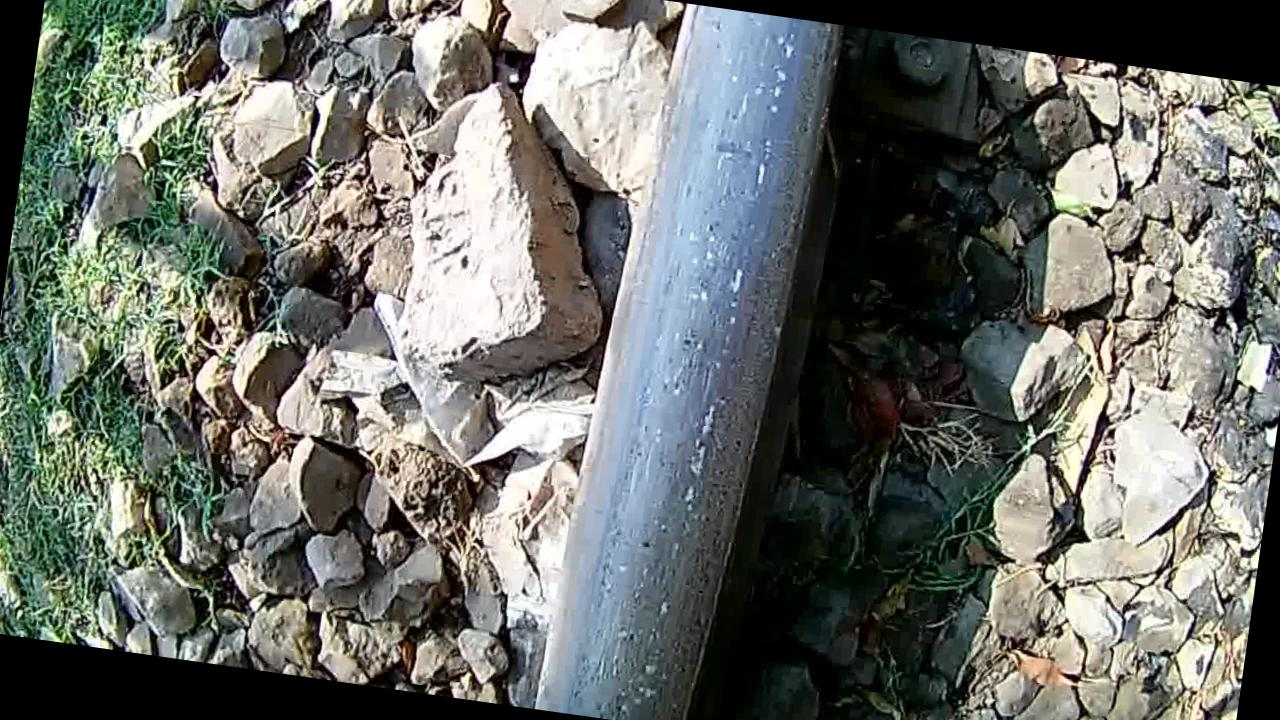clip_missing: (544, 0, 850, 720)
